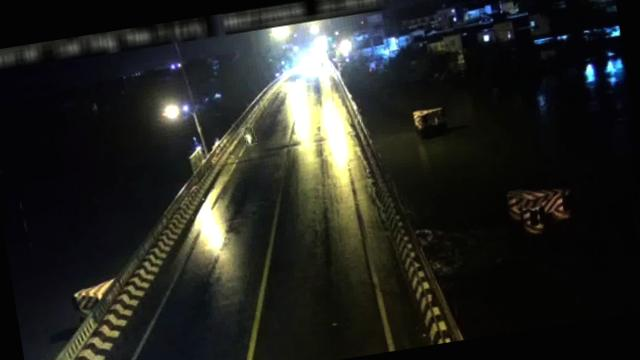Bike: (242, 124, 258, 146)
